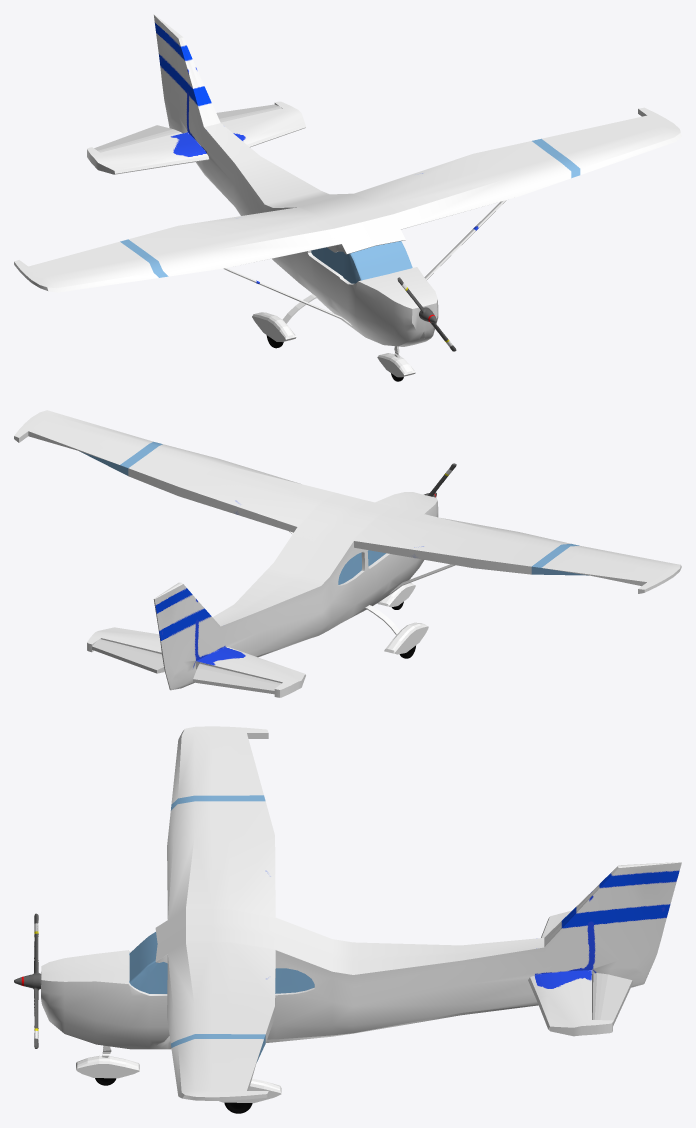
Rendered from cezzna172.glb.
3 renders of one model, top to bottom at view 1: azimuth 30°, elevation 25°; view 2: azimuth 150°, elevation 25°; view 3: azimuth 270°, elevation 25°, orthographic. The views are drawn at different scales.
Parts seen in each view (by area): view 1: plane, tailFin; view 2: plane, tailFin; view 3: plane, tailFin, Cube.001.
Boxes of the visible parts, bbox=[...] form: plane: bbox=[14, 14, 681, 377]; tailFin: bbox=[94, 104, 281, 153]; plane: bbox=[14, 410, 681, 697]; tailFin: bbox=[92, 639, 281, 694]; plane: bbox=[41, 726, 681, 1103]; tailFin: bbox=[592, 973, 632, 1025]; Cube.001: bbox=[14, 913, 41, 1048].
Size of the model in its own units: 0.9299 by 0.2608 by 0.7073.
Materials: 5 (2 with a texture image).
